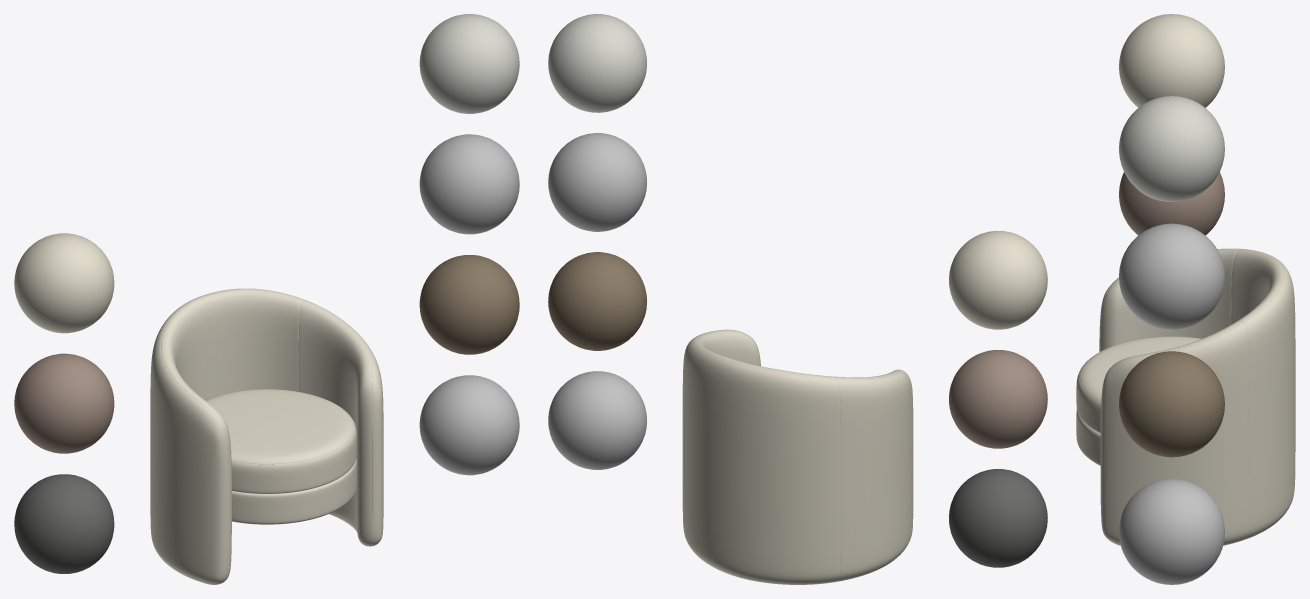
The model's file is Ellipse-Armchair-E74-2021-Corona-fbx[1].glb.
The picture shows the model from 3 angles, left to right: view 1: azimuth 30°, elevation 25°; view 2: azimuth 150°, elevation 25°; view 3: azimuth 270°, elevation 25°; orthographic projection. The views are drawn at different scales.
Visible parts, largest first — view 1: Ellipse Armchair E74-001, Ellipse Armchair E74-005, Ellipse Armchair E74-007, Ellipse Armchair E74-002, Ellipse Armchair E74-004, Ellipse Armchair E74-003, Ellipse Armchair E74-006, Ellipse Armchair E74-008; view 2: Ellipse Armchair E74-001, Ellipse Armchair E74-002, Ellipse Armchair E74-007, Ellipse Armchair E74-006, Ellipse Armchair E74-008, Ellipse Armchair E74-004, Ellipse Armchair E74-005, Ellipse Armchair E74-003; view 3: Ellipse Armchair E74-001, Ellipse Armchair E74-007, Ellipse Armchair E74-004, Ellipse Armchair E74-005, Ellipse Armchair E74-006, Ellipse Armchair E74-008, Ellipse Armchair E74-002.
Part boxes in pixels (left/top/right/bottom): Ellipse Armchair E74-001: left=150, top=288, right=383, bottom=584; Ellipse Armchair E74-005: left=419, top=134, right=519, bottom=234; Ellipse Armchair E74-007: left=419, top=375, right=519, bottom=475; Ellipse Armchair E74-002: left=14, top=353, right=114, bottom=453; Ellipse Armchair E74-004: left=419, top=14, right=519, bottom=113; Ellipse Armchair E74-003: left=14, top=474, right=114, bottom=573; Ellipse Armchair E74-006: left=419, top=255, right=519, bottom=354; Ellipse Armchair E74-008: left=14, top=233, right=114, bottom=333; Ellipse Armchair E74-001: left=682, top=329, right=913, bottom=584; Ellipse Armchair E74-002: left=949, top=350, right=1047, bottom=448; Ellipse Armchair E74-007: left=548, top=371, right=646, bottom=469; Ellipse Armchair E74-006: left=548, top=252, right=646, bottom=350; Ellipse Armchair E74-008: left=949, top=230, right=1047, bottom=329; Ellipse Armchair E74-004: left=548, top=14, right=646, bottom=112; Ellipse Armchair E74-005: left=548, top=133, right=646, bottom=231; Ellipse Armchair E74-003: left=949, top=469, right=1047, bottom=567; Ellipse Armchair E74-001: left=1076, top=248, right=1295, bottom=545; Ellipse Armchair E74-007: left=1119, top=479, right=1224, bottom=584; Ellipse Armchair E74-004: left=1119, top=96, right=1224, bottom=201; Ellipse Armchair E74-005: left=1119, top=223, right=1224, bottom=329; Ellipse Armchair E74-006: left=1119, top=351, right=1224, bottom=457; Ellipse Armchair E74-008: left=1119, top=14, right=1224, bottom=107; Ellipse Armchair E74-002: left=1119, top=172, right=1224, bottom=235.
Bounding box in the file's own units: 1.7 × 1.58 × 0.6194.
